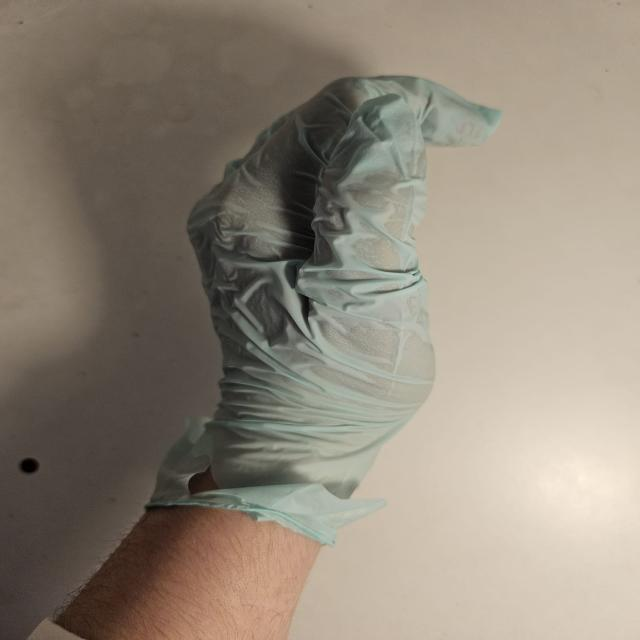gloves_damaged: (145, 76, 504, 536)
